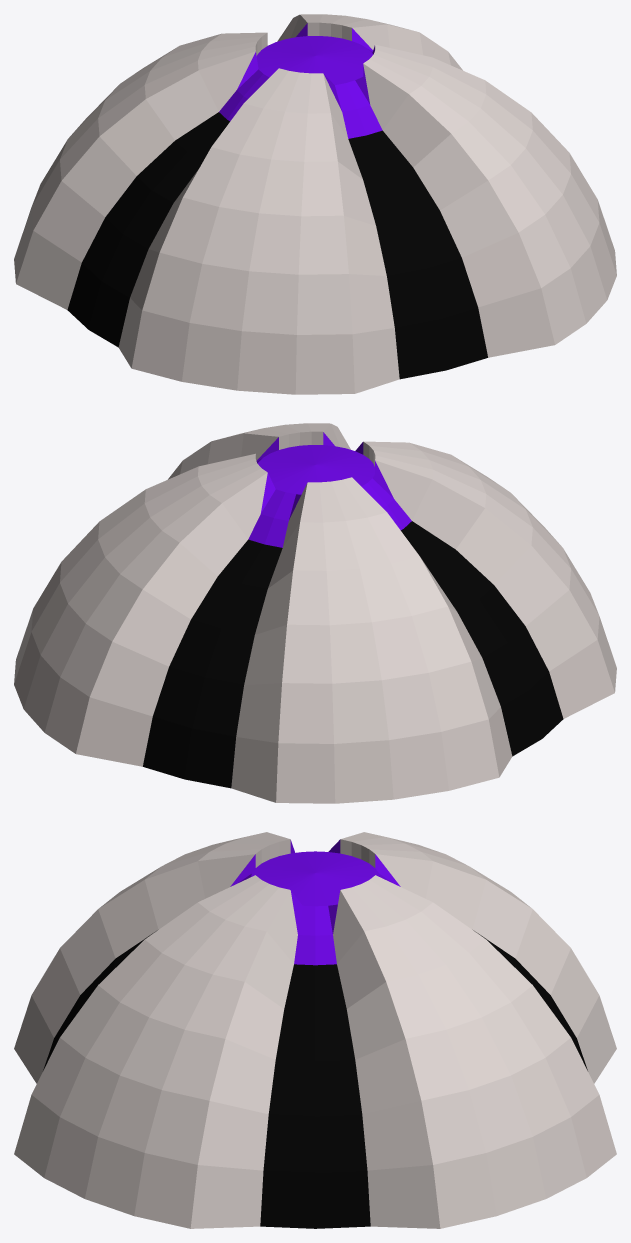
The model's file is Type1.fbx.
The picture shows the model from 3 angles, top to bottom: view 1: azimuth 30°, elevation 25°; view 2: azimuth 150°, elevation 25°; view 3: azimuth 270°, elevation 25°; orthographic projection. The views are drawn at different scales.
Visible parts, largest first — view 1: 球; view 2: 球; view 3: 球.
Part boxes in pixels (x1,y1,x2,y2): 球: [14, 14, 616, 394]; 球: [14, 423, 616, 803]; 球: [14, 832, 616, 1228].
Size of the model in its own units: 181 by 81.15 by 181.
